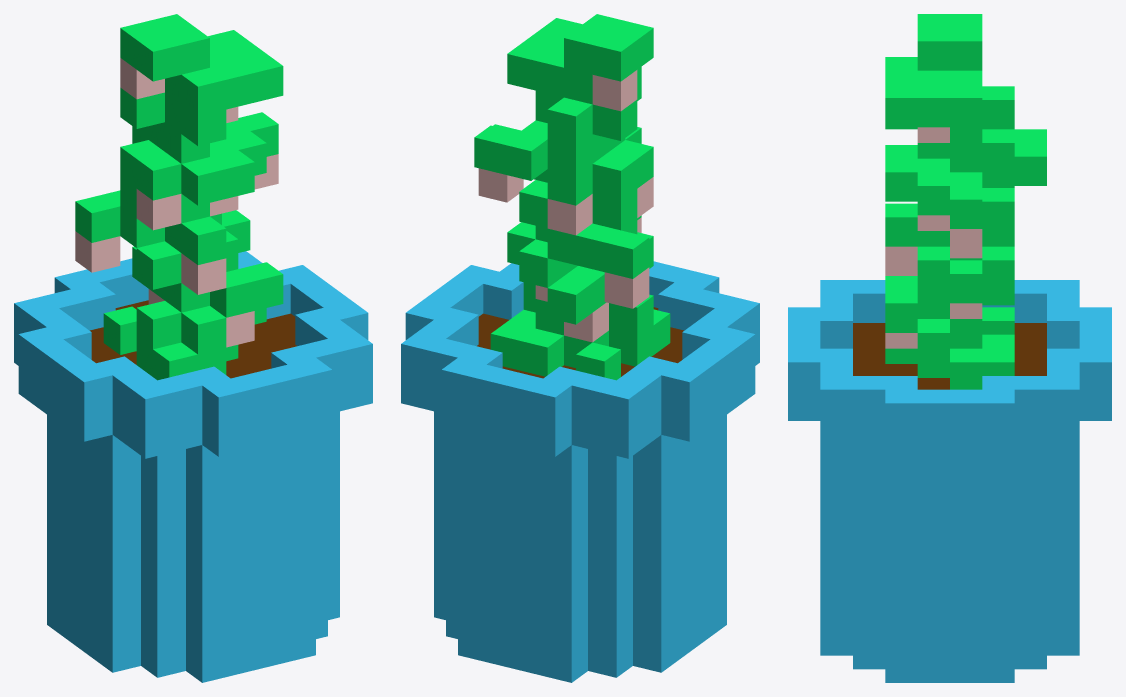
Rendered from PottedPlant2.obj.
3 renders of one model, left to right at view 1: azimuth 30°, elevation 25°; view 2: azimuth 150°, elevation 25°; view 3: azimuth 270°, elevation 25°, orthographic.
Size of the model in its own units: 1 by 2 by 1.
1 material, 1 textured.
